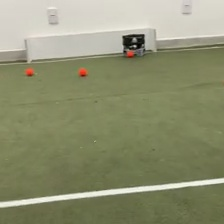ball: (79, 67, 87, 76), (26, 67, 33, 76), (126, 49, 133, 57)
goal: (24, 27, 158, 63)
robot: (121, 32, 145, 56)
